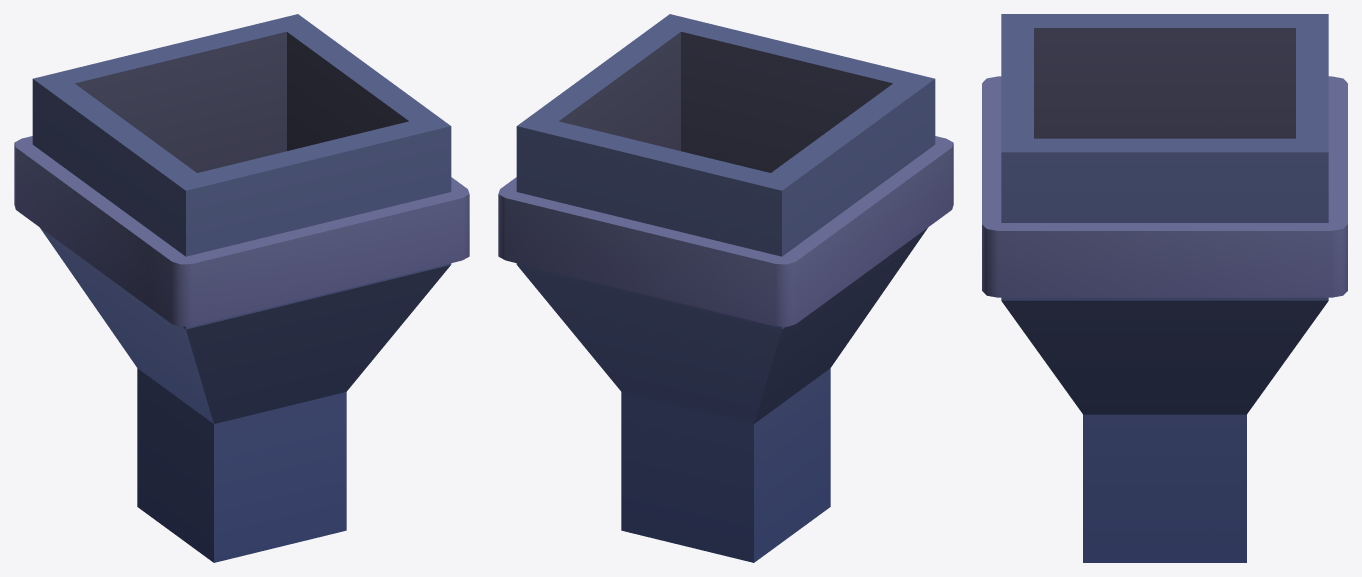
Rendered from hopper-high-square.glb.
3 views of the same model, side by side, from view 1: azimuth 30°, elevation 25°; view 2: azimuth 150°, elevation 25°; view 3: azimuth 270°, elevation 25° (orthographic). The views are drawn at different scales.
Parts seen in each view (by area): view 1: hopper-high-square; view 2: hopper-high-square; view 3: hopper-high-square.
Boxes of the visible parts, box(x1,y1,x2,y2) form: hopper-high-square: box(14, 14, 469, 562); hopper-high-square: box(498, 14, 953, 562); hopper-high-square: box(982, 14, 1347, 562).
Bounding box in the file's own units: 1.12 × 1.5 × 1.12.
